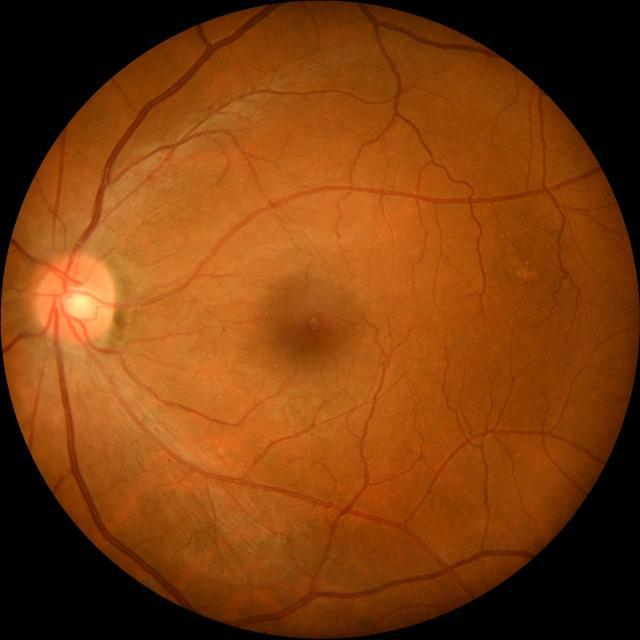OC: (56, 284, 98, 322)
OD: (34, 252, 116, 344)
